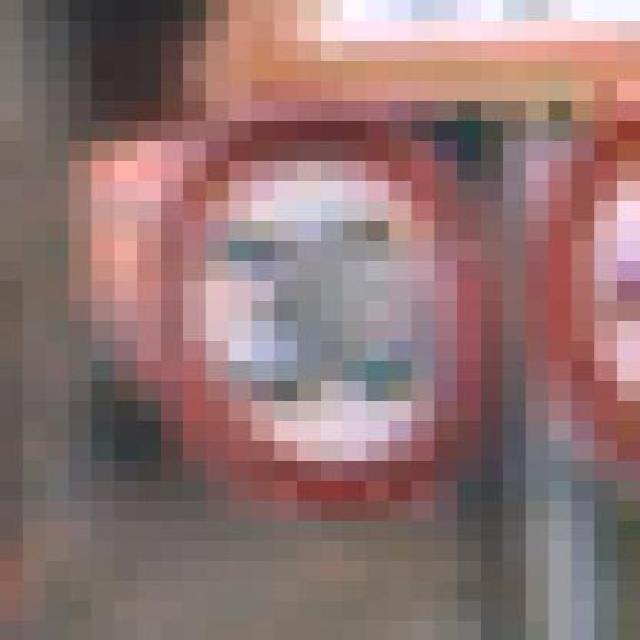Speed Limit 30 KMPh: (114, 160, 503, 560)
